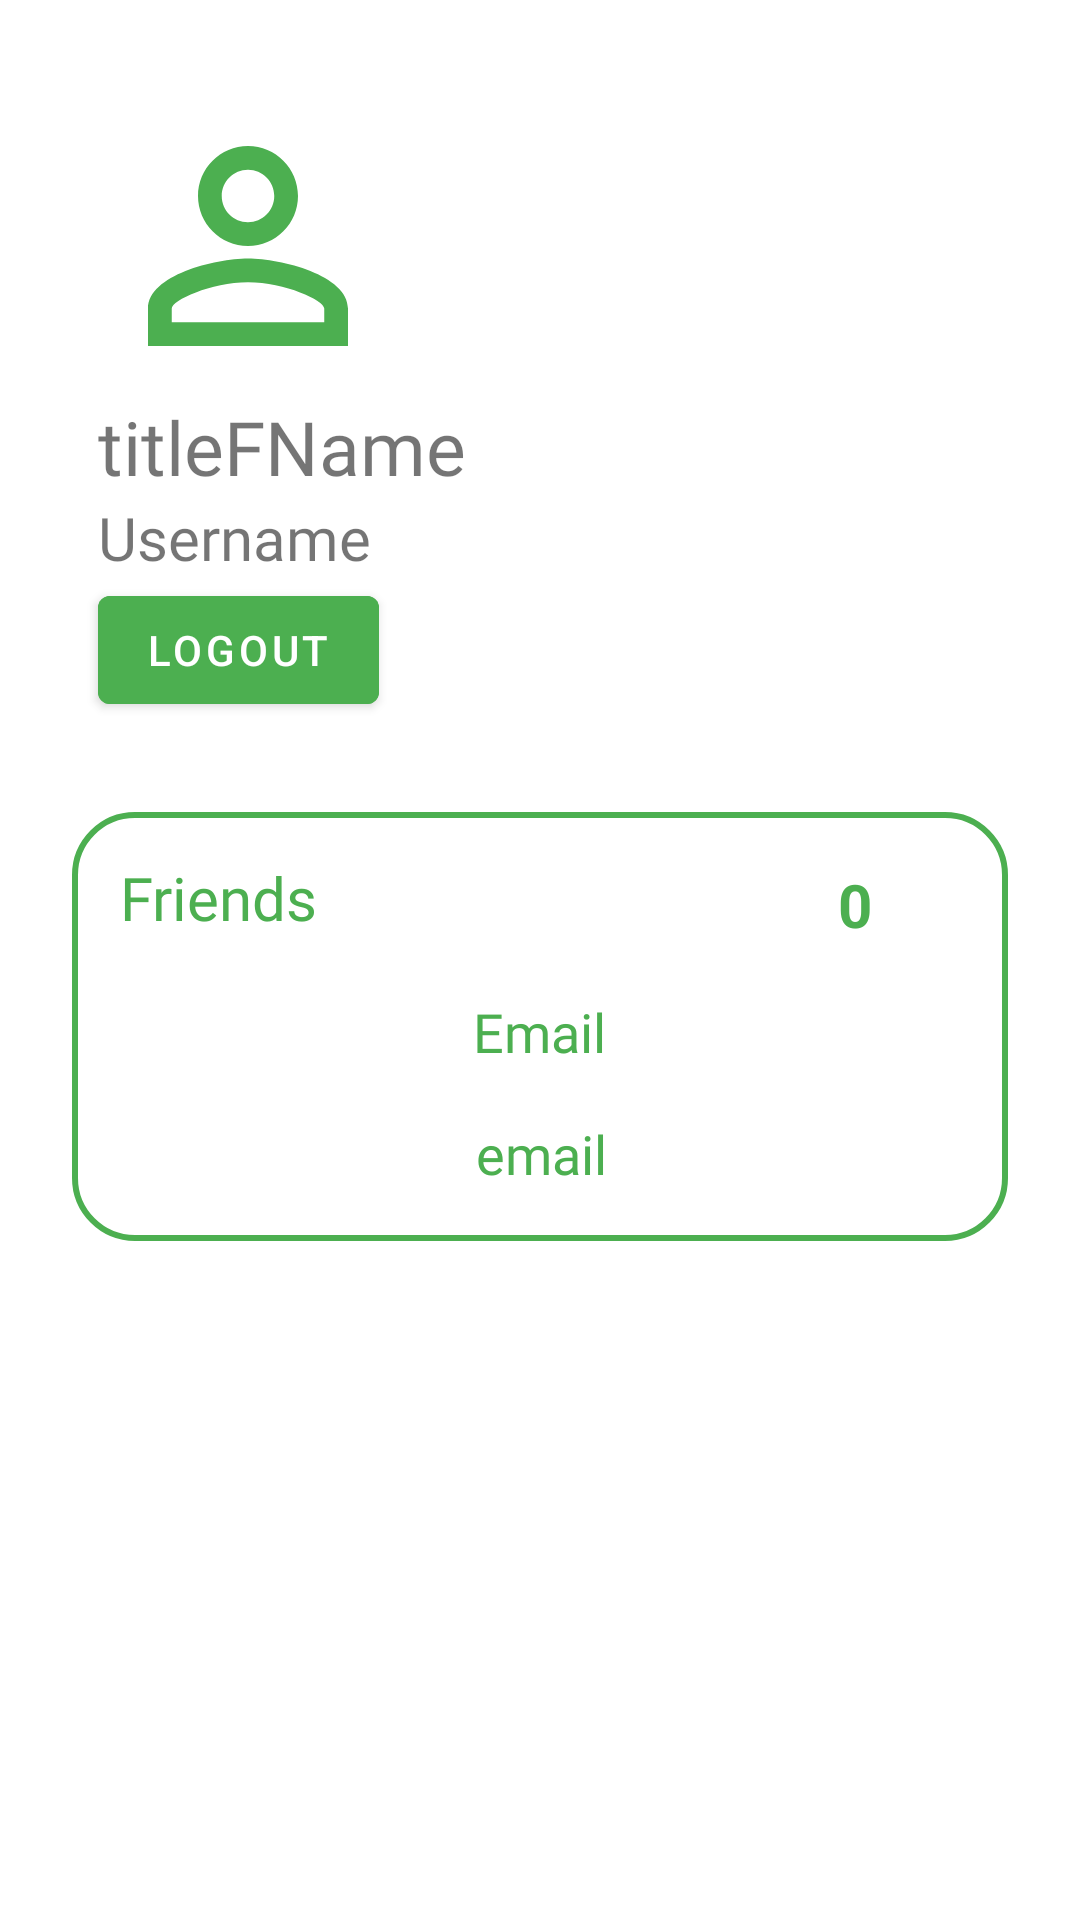

Icons on this 1080w x 1920h Android screen, each with the point to tap as (x=x, y=y):
person: (x=248, y=246)
